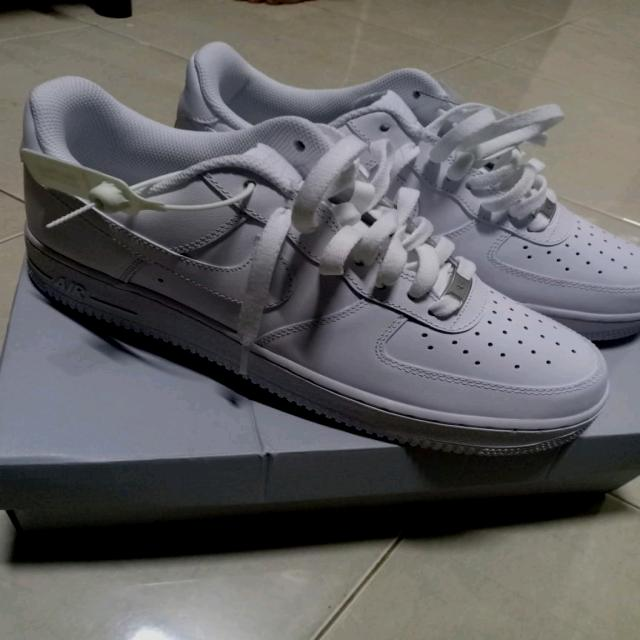nike_original_airforce: (0, 74, 614, 458), (178, 38, 640, 344)
